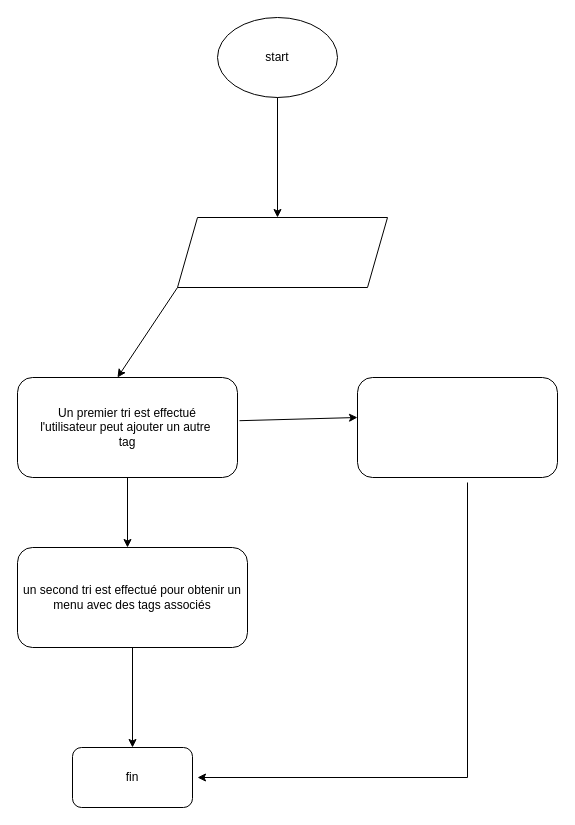
Some shapes in this 575 by 825 pixel diagram are drawn without their labels. Each missing label, with the centre of its shape:
au clique sur la croix le tag disparait et les menus card reapparaissent: pixel 457 427
l'utilisateur clique sur un tag: pixel 282 252
